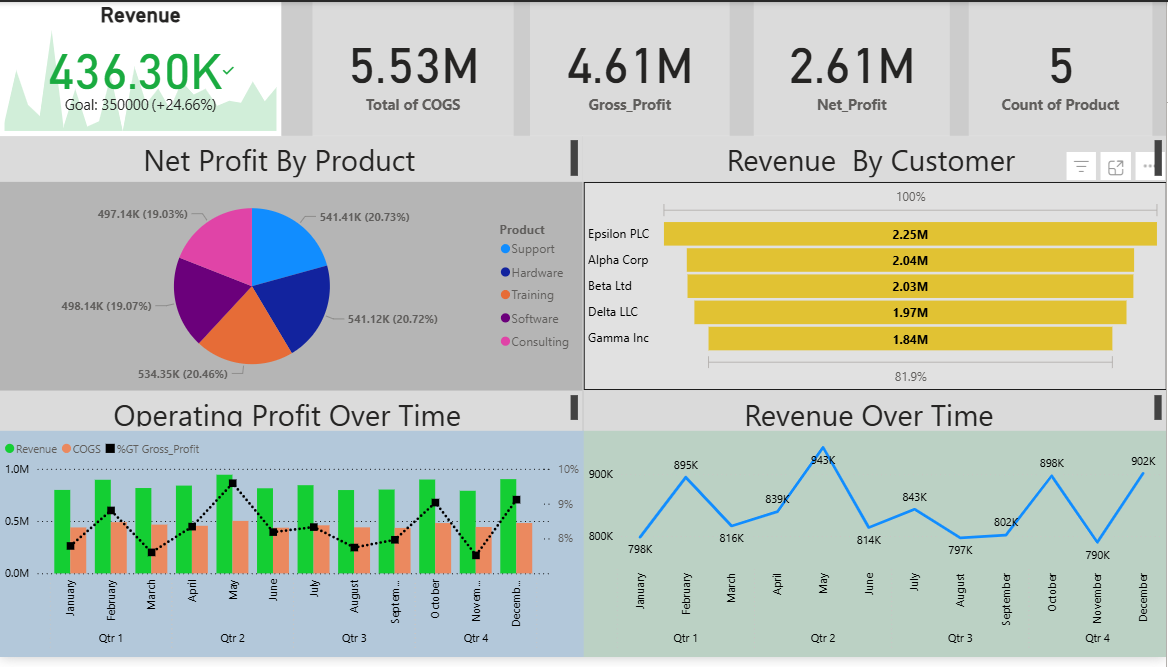

This screenshot's page, from the dashboard's own definition file:
{"tool":"powerbi","page":{"name":"Page 1","canvas":[1280,720],"ordinal":0},"visuals":[{"type":"lineChart","fields":{"Y":["Sum(Sheet1.Revenue)"],"Category":["Sheet1.Date.Variation.Date Hierarchy.Quarter","Sheet1.Date.Variation.Date Hierarchy.Month"]},"box":[640.8,470.7,639.5,249.7],"z":0},{"type":"textbox","box":[640.8,426.8,639.5,43.9],"z":1000},{"type":"lineClusteredColumnComboChart","fields":{"Y":["Sum(Sheet1.Revenue)","Sum(Sheet1.COGS)"],"Y2":["Sum(Sheet1.Gross_Profit)"],"Category":["Sheet1.Date.Variation.Date Hierarchy.Quarter","Sheet1.Date.Variation.Date Hierarchy.Month"]},"box":[0,470.7,640.8,249.7],"z":2000},{"type":"textbox","box":[0,426.8,639.5,43.9],"z":3000},{"type":"funnel","fields":{"Category":["Sheet1.Customer"],"Y":["Sum(Sheet1.Revenue)"]},"box":[640.8,197.6,639.5,229.2],"z":3001},{"type":"textbox","box":[639.5,146.8,640.8,50.8],"z":3002},{"type":"pieChart","fields":{"Y":["Sum(Sheet1.Net_Profit)"],"Category":["Sheet1.Product"]},"box":[0,197.6,639.5,229.2],"z":3003},{"type":"textbox","box":[0,146.8,639.5,50.8],"z":3004},{"type":"kpi","title":"Revenue ","fields":{"Indicator":["Sum(Sheet1.Revenue)"],"TrendLine":["Sheet1.Date"],"Goal":["Sheet1.Target"]},"box":[0,0,308.7,146.8],"z":3005},{"type":"card","fields":{"Values":["Sum(Sheet1.COGS)"]},"box":[343.1,0,220.9,146.8],"z":3006},{"type":"card","fields":{"Values":["Sum(Sheet1.Gross_Profit)"]},"box":[581.8,0,219.6,146.8],"z":3007},{"type":"card","fields":{"Values":["Sum(Sheet1.Net_Profit)"]},"box":[827.4,0,215.4,146.8],"z":3008},{"type":"card","fields":{"Values":["Count(Sheet1.Product)"]},"box":[1063.5,0,201.7,146.8],"z":3009}]}

Visuals, with their boxes in screenshot pixels (x1, y1, x2, y2), scaled from the page's 1280x720 canvas onto the 1168x667 screenshot:
lineChart - Sum(Sheet1.Revenue) x Sheet1.Date.Variation.Date Hierarchy.Quarter: 585, 436, 1167, 666
textbox: 585, 395, 1167, 436
lineClusteredColumnComboChart - Sum(Sheet1.Revenue) x Sum(Sheet1.COGS): 0, 436, 585, 666
textbox: 0, 395, 584, 436
funnel - Sheet1.Customer x Sum(Sheet1.Revenue): 585, 183, 1167, 395
textbox: 584, 136, 1167, 183
pieChart - Sum(Sheet1.Net_Profit) x Sheet1.Product: 0, 183, 584, 395
textbox: 0, 136, 584, 183
"Revenue " kpi: 0, 0, 282, 136
card - Sum(Sheet1.COGS): 313, 0, 515, 136
card - Sum(Sheet1.Gross_Profit): 531, 0, 731, 136
card - Sum(Sheet1.Net_Profit): 755, 0, 952, 136
card - Count(Sheet1.Product): 970, 0, 1154, 136
